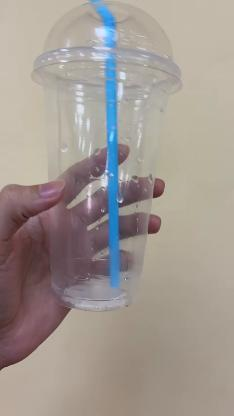Plastic Cup: (32, 0, 182, 310)
